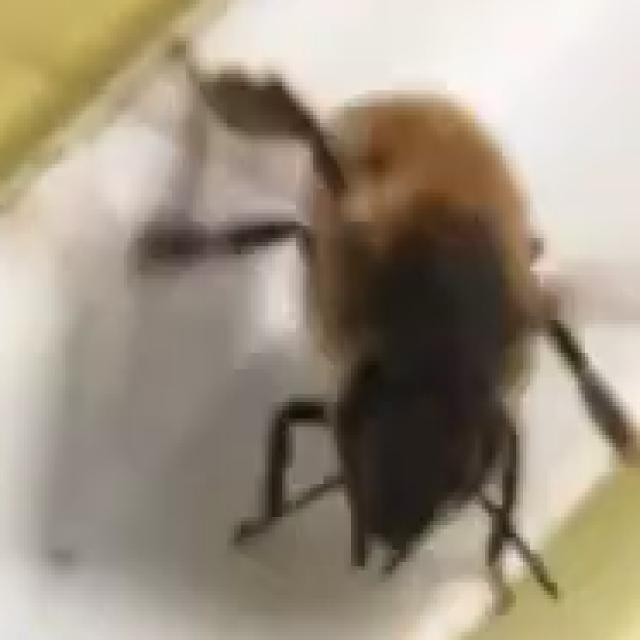honeybee: (168, 64, 636, 616)
